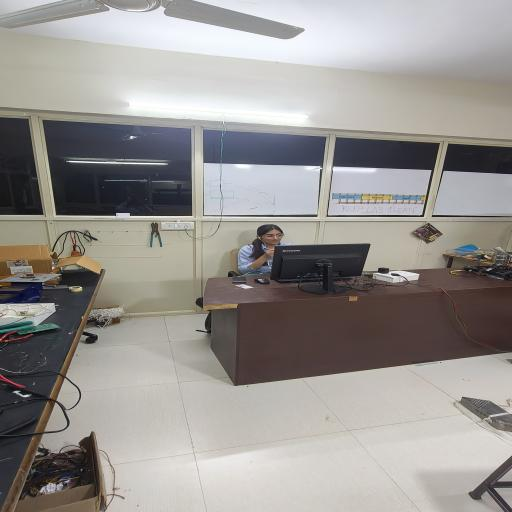survivor: (236, 224, 294, 276)
